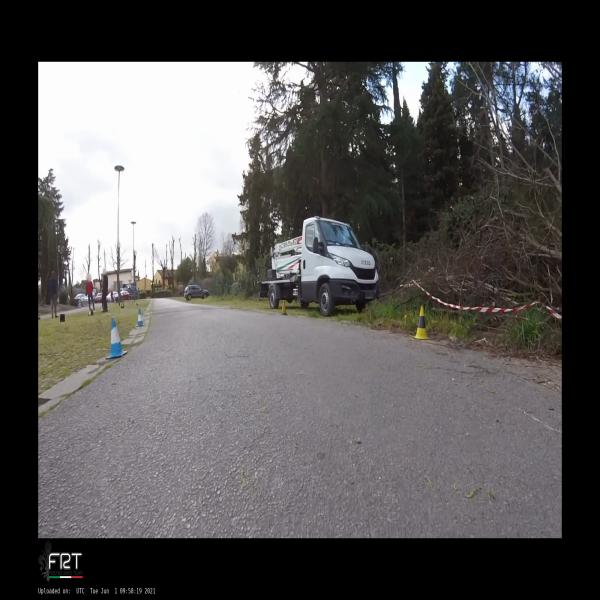blue_cone: (106, 318, 128, 360), (136, 309, 144, 326)
unknown_cone: (280, 301, 287, 315), (60, 314, 65, 322)
yellow_cone: (412, 305, 431, 340)
